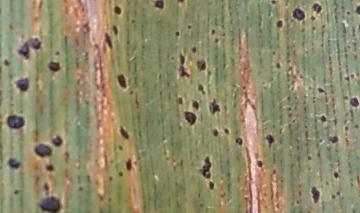tarspot: (38, 182, 61, 213), (17, 35, 42, 61), (12, 74, 31, 94), (176, 53, 191, 78), (5, 113, 26, 130), (33, 142, 53, 159), (198, 155, 212, 179), (207, 97, 222, 116), (309, 185, 321, 205), (182, 110, 197, 126), (115, 72, 128, 90), (291, 7, 306, 22), (7, 157, 21, 171), (195, 57, 207, 73), (102, 32, 112, 51), (47, 60, 61, 73), (51, 134, 63, 148), (119, 125, 130, 140), (265, 134, 275, 149), (62, 150, 71, 166), (124, 158, 134, 172), (327, 134, 339, 145), (153, 1, 167, 10), (196, 82, 205, 96), (112, 4, 122, 16), (312, 2, 322, 14), (349, 96, 359, 107), (111, 23, 119, 36), (316, 84, 326, 94), (319, 113, 328, 124), (191, 99, 199, 111), (176, 94, 184, 106), (44, 163, 54, 172), (2, 58, 12, 67), (275, 19, 284, 29), (208, 180, 216, 191), (255, 160, 264, 169), (342, 75, 351, 84), (211, 127, 219, 137), (234, 137, 243, 145), (12, 188, 21, 196), (117, 169, 125, 178), (354, 4, 360, 15), (222, 127, 230, 135), (53, 49, 61, 57), (274, 61, 282, 69), (333, 170, 340, 179), (130, 17, 137, 26), (190, 46, 197, 54), (309, 14, 316, 22), (353, 122, 360, 130), (77, 185, 84, 193), (107, 175, 114, 182), (335, 190, 342, 197), (306, 155, 313, 162), (210, 28, 216, 36), (117, 143, 123, 151), (330, 193, 336, 201), (270, 49, 276, 57), (300, 26, 306, 34), (320, 22, 326, 30), (158, 88, 163, 97), (213, 37, 219, 44), (345, 10, 352, 16), (174, 30, 179, 36), (186, 24, 192, 29), (310, 25, 316, 30), (270, 1, 277, 5), (176, 1, 186, 3)
